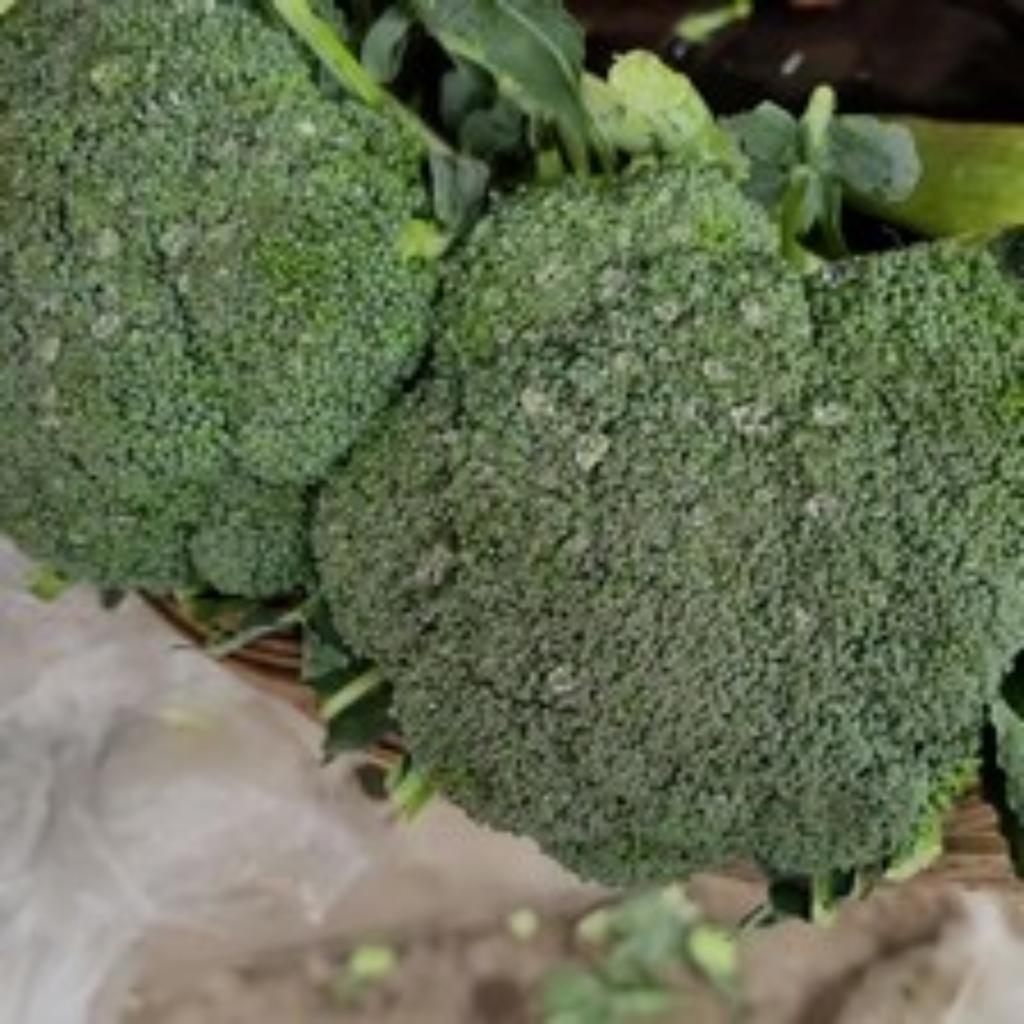Broccoli: (318, 166, 1024, 879), (320, 168, 1024, 877), (0, 0, 436, 595), (0, 4, 436, 595)
